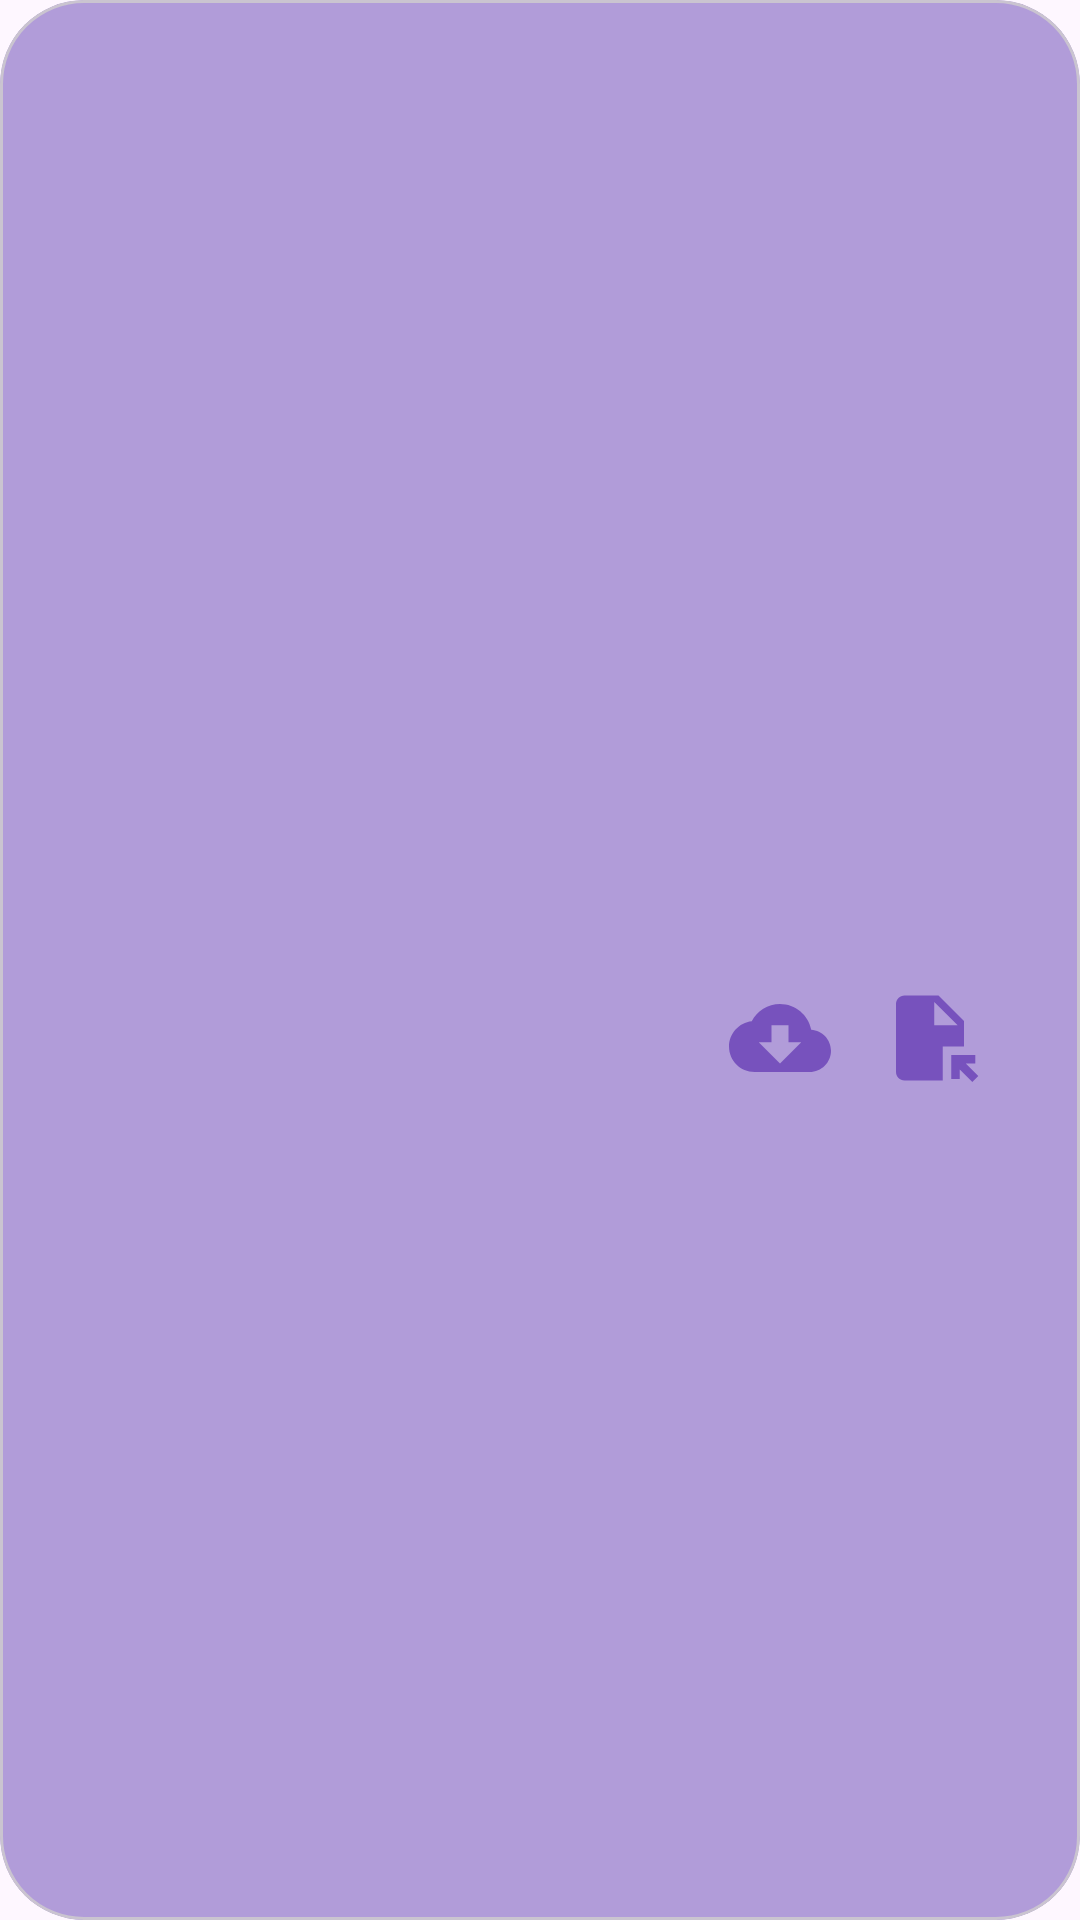

Where to tap for icons on this 1080w x 1920h app screen, as (x=x, y=y):
cloud download: (x=780, y=1038)
file open: (x=937, y=1038)
